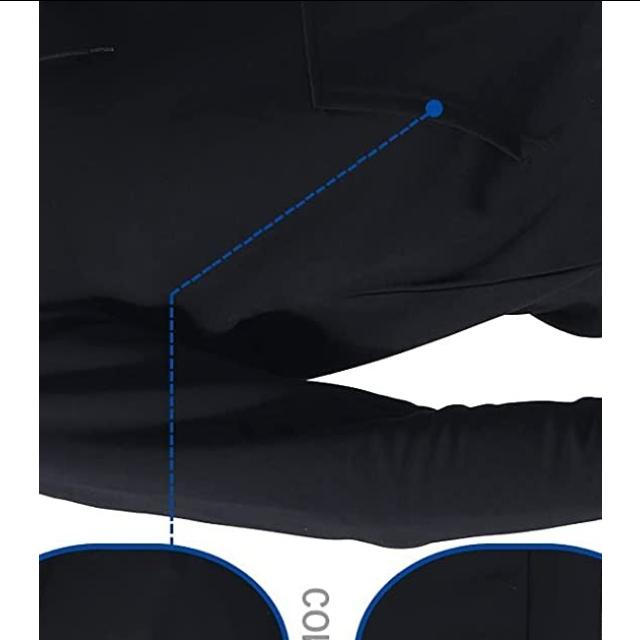polyester: (39, 0, 602, 338)
